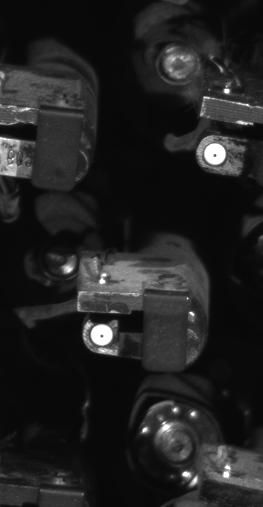fiber: (88, 321, 119, 351), (202, 137, 229, 170)
